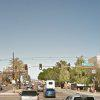Car: (20, 85, 55, 100)
